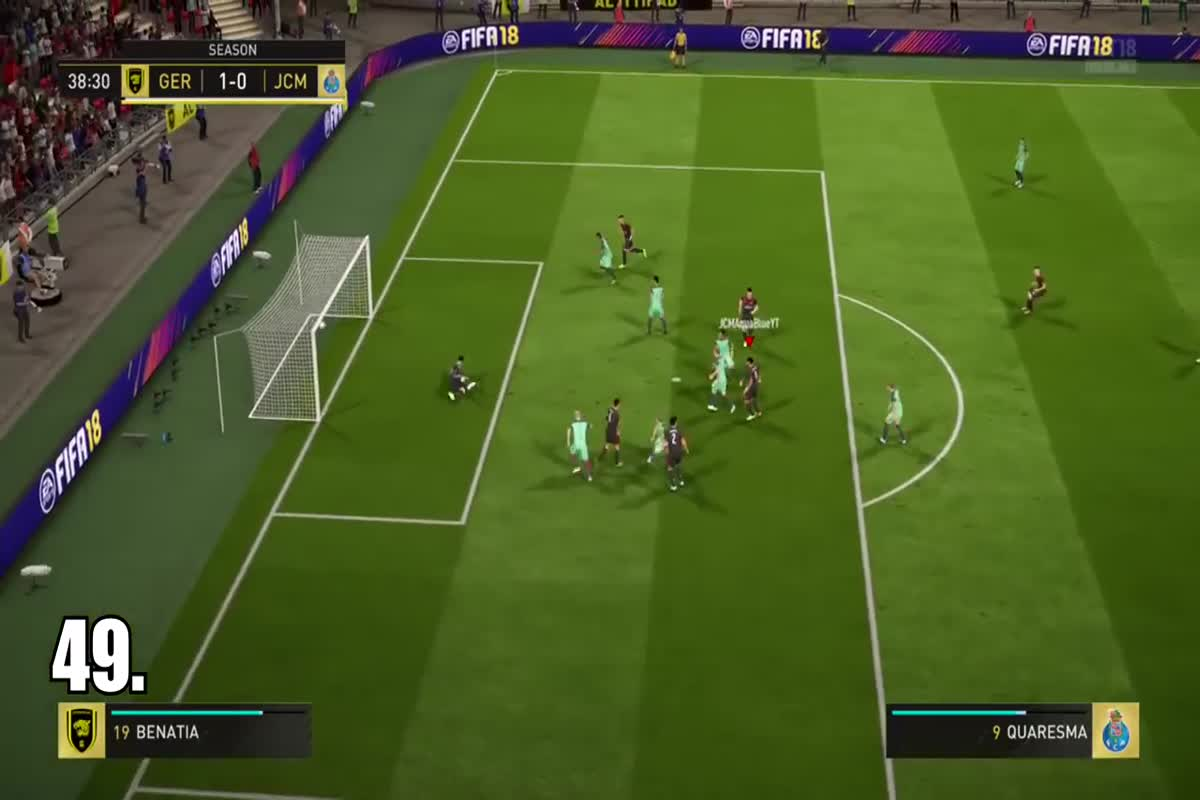ball: (315, 316, 334, 336)
